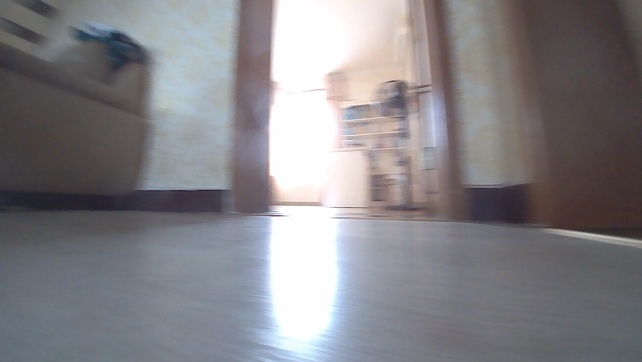sofa1: (0, 18, 157, 211)
